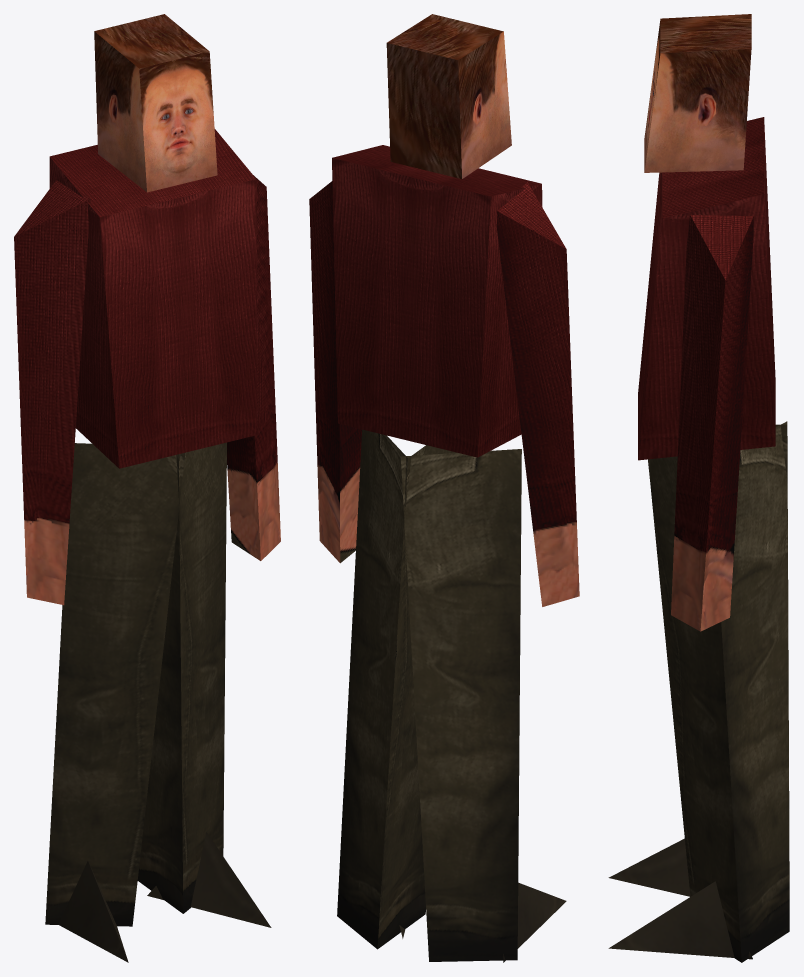
The model's file is man-casual-2-cbj_LOD03.gltf.
3 views of the same model, side by side, from view 1: azimuth 30°, elevation 25°; view 2: azimuth 150°, elevation 25°; view 3: azimuth 270°, elevation 25° (orthographic).
Parts seen in each view (by area): view 1: legs, trunk-no-arm, arm, head; view 2: legs, trunk-no-arm, arm, head; view 3: legs, trunk-no-arm, head.
Boxes of the visible parts, box(x1,y1,x2,y2) form: legs: box(45, 442, 271, 962); trunk-no-arm: box(49, 129, 280, 560); arm: box(14, 180, 90, 605); head: box(94, 14, 217, 192); legs: box(337, 429, 566, 962); trunk-no-arm: box(309, 145, 542, 563); arm: box(496, 182, 579, 606); head: box(386, 14, 511, 178); legs: box(608, 421, 789, 962); trunk-no-arm: box(638, 117, 775, 631); head: box(644, 14, 751, 172).
Size of what is drawn, in the model's own units: 0.5054 by 1.66 by 0.3075.
